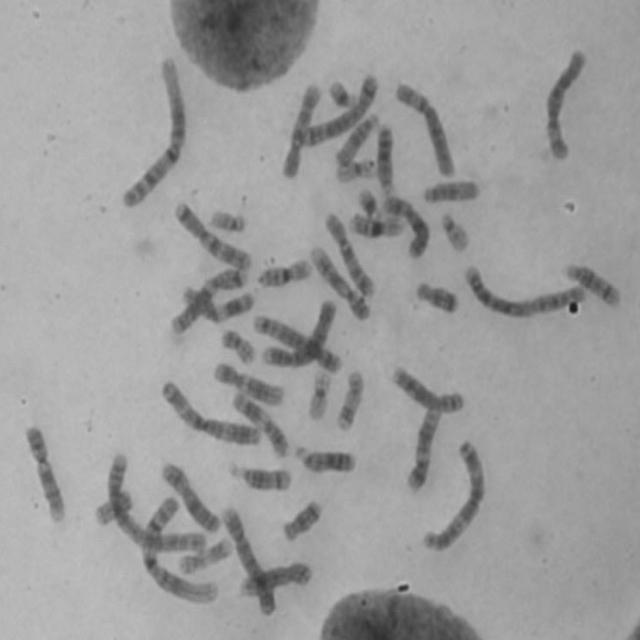A1: (119, 54, 187, 209), (140, 492, 220, 605)
A2: (106, 450, 208, 555), (465, 262, 588, 319)
A3: (421, 438, 489, 552), (161, 380, 262, 448)
B4: (220, 504, 278, 616), (261, 299, 338, 369)
B5: (300, 70, 378, 148), (252, 312, 344, 374)
C10: (323, 212, 376, 298), (280, 84, 321, 182)
C11: (232, 390, 293, 460), (180, 284, 255, 325)
C12: (211, 360, 286, 410), (407, 404, 442, 492)
C6: (394, 80, 457, 177), (544, 47, 588, 161)
C7: (173, 199, 253, 272), (169, 265, 248, 336)
C8: (392, 364, 466, 416), (238, 561, 314, 600)
C9: (309, 244, 372, 321), (24, 423, 66, 525)
D13: (295, 442, 358, 477), (376, 125, 396, 199)
D14: (561, 259, 623, 308), (226, 462, 293, 493)
D15: (334, 111, 379, 168), (421, 179, 482, 206)
E16: (347, 211, 406, 240), (256, 258, 312, 288)
E17: (176, 536, 234, 577), (336, 369, 364, 433)
E18: (281, 498, 325, 544), (413, 280, 461, 317)
F19: (308, 368, 332, 423), (335, 158, 377, 185)
F20: (93, 489, 136, 529), (218, 327, 258, 367)
G21: (327, 77, 358, 109), (357, 187, 384, 223)
G22: (439, 212, 471, 254), (209, 209, 248, 236)
X: (161, 461, 221, 534), (382, 194, 431, 259)
